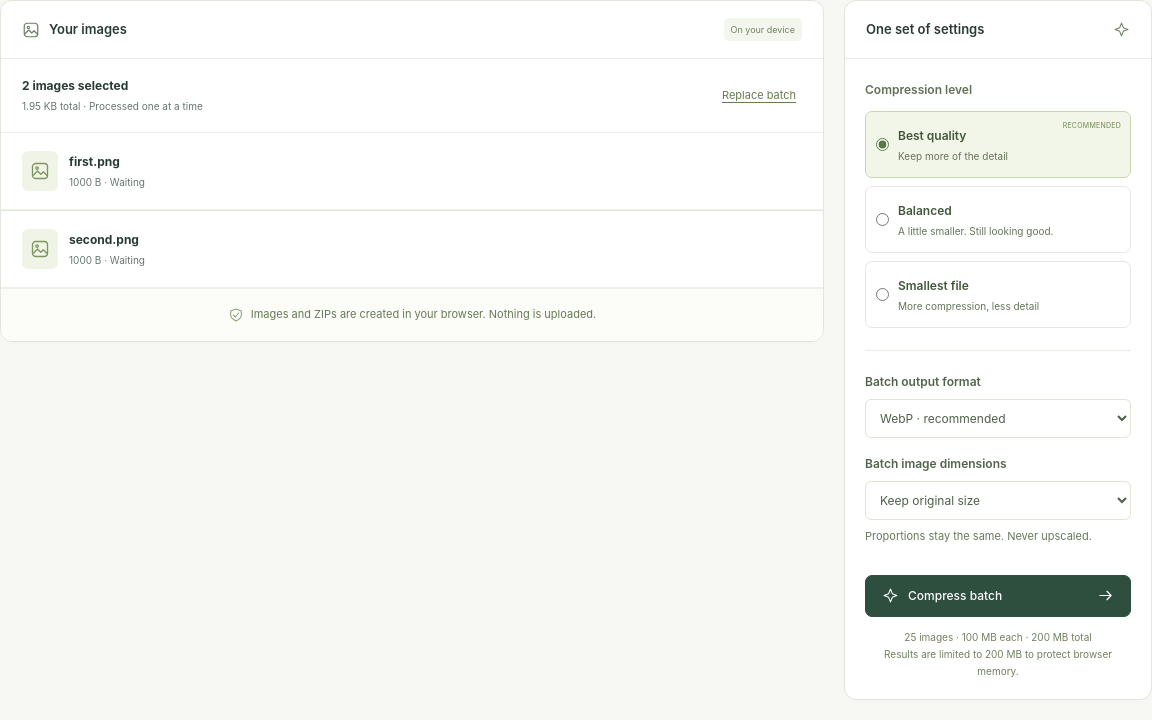
retains completed downloads on cancellation and ignores late results after a replacement
Earlier steps of the test are not shown.
Later steps or results of the test are not shown.
Click the button "Compress batch" at [998, 596], box [865,575,1131,617]
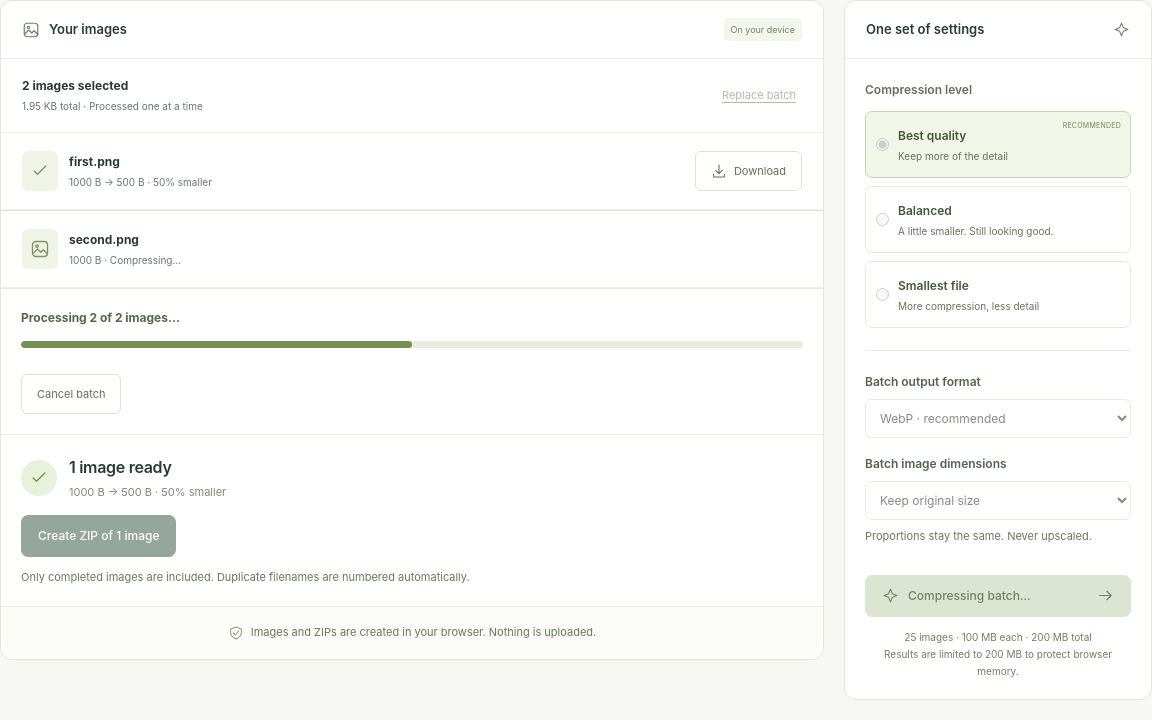
expect the link with aria-label "Download first-optimized.webp" is shown: met, box [695,151,802,191]
expect the dropdown labelled "Batch output format" is disabled: met, box [865,399,1131,438]
Click the button "Cancel batch" at [71, 394], box [21,374,122,414]
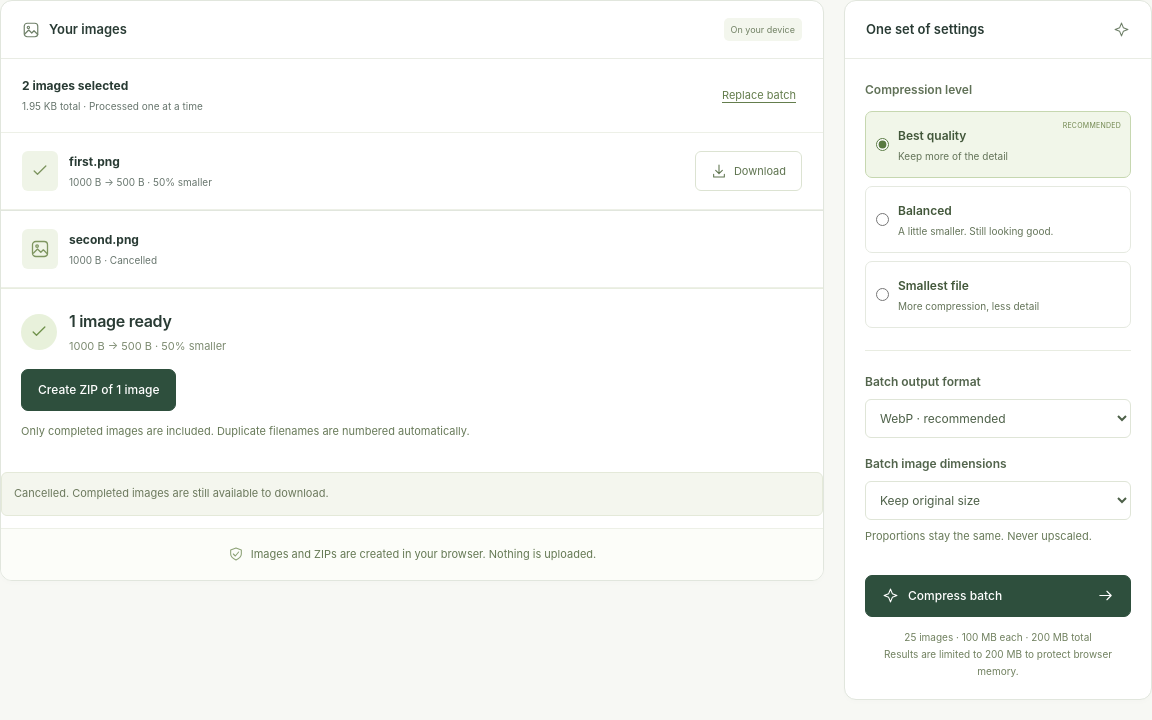
expect the link with aria-label "Download first-optimized.webp" is shown: met, box [695,151,802,191]
